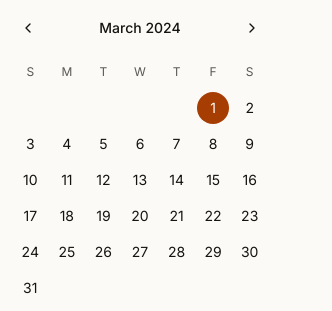
Calendar › navigates to the previous/next month
Click the button named "Next month" at (252, 28), box [236,12,268,44]
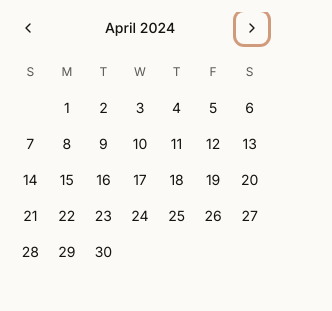
expect the text "April 2024" is shown: met, box [105,18,175,38]
Click the button named "Previous month" at (28, 28), box [12,12,44,44]
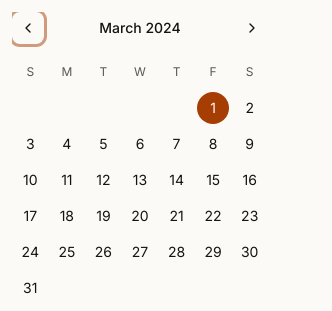
Click the button named "Previous month" at (28, 28), box [12,12,44,44]
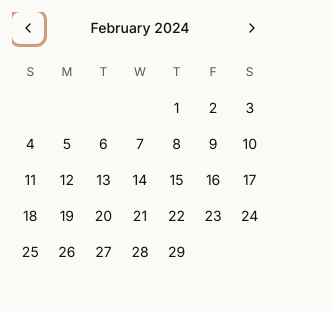
expect the text "February 2024" is shown: met, box [90,18,190,38]
